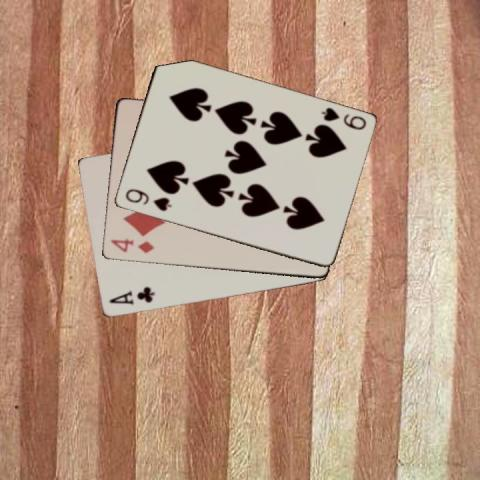4d: (108, 235, 155, 255)
9s: (122, 186, 173, 213), (318, 105, 367, 131)
Ac: (106, 284, 156, 306)
